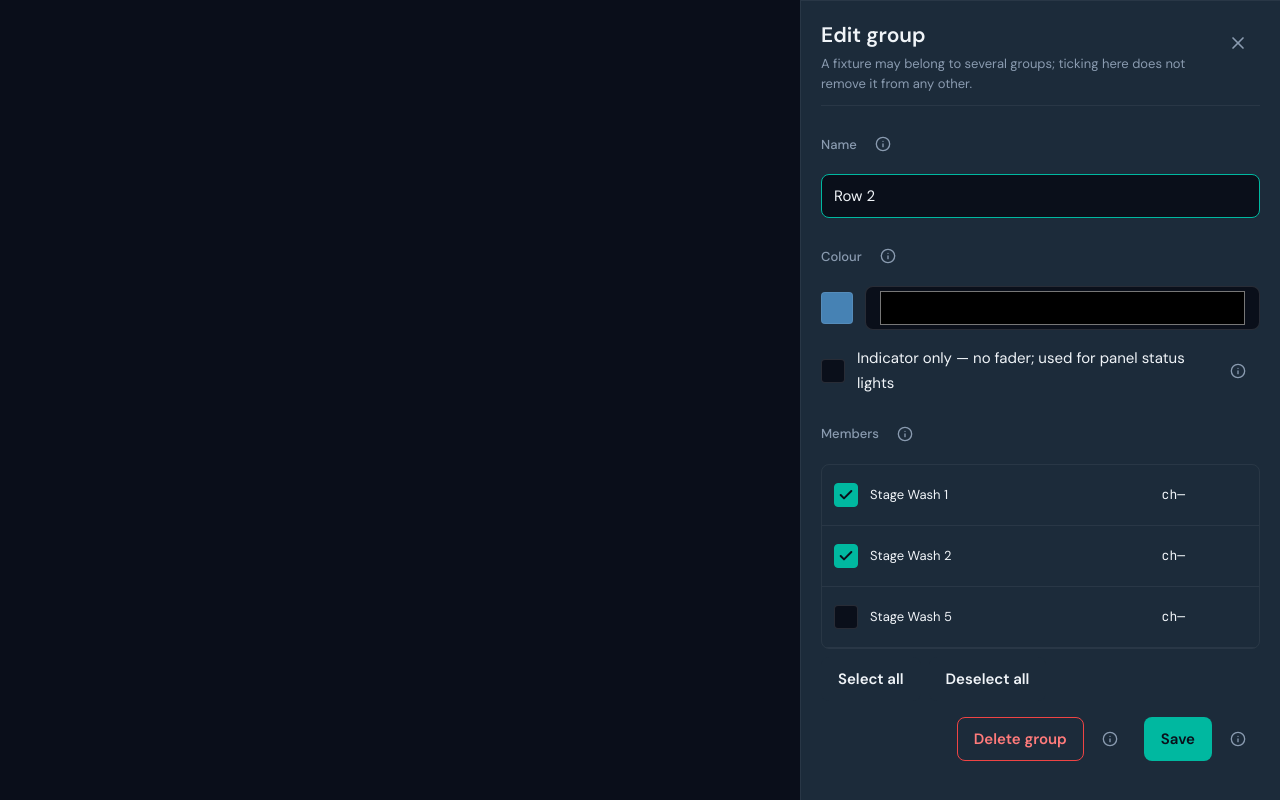
Test: GroupSheet edit mode (§21.18) › Select all and Deselect all set the whole checklist at once
Click the button "Deselect all".
click(988, 679)  # box [929, 657, 1046, 701]
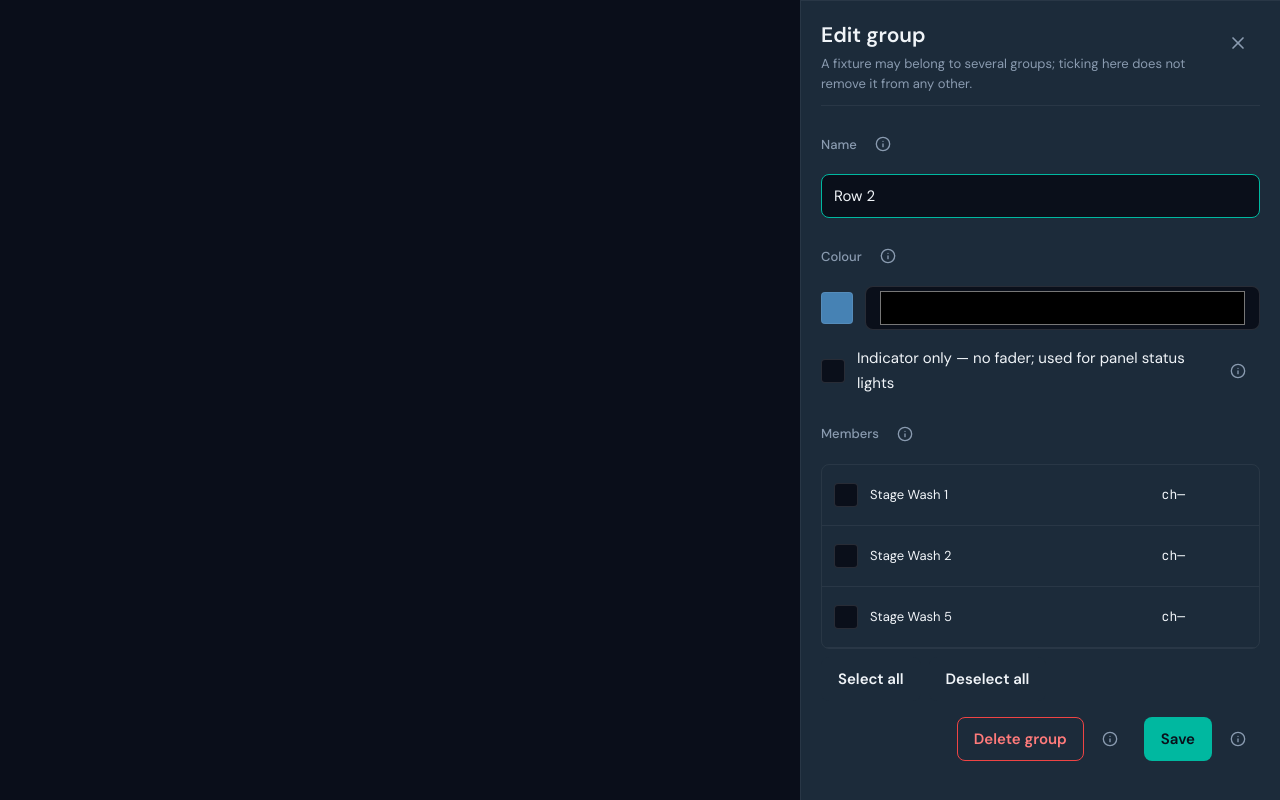
Check: the checkbox labelled "Stage Wash 1" is not checked, box [834, 483, 948, 507]
Click the button "Select all".
click(871, 679)  # box [821, 657, 921, 701]
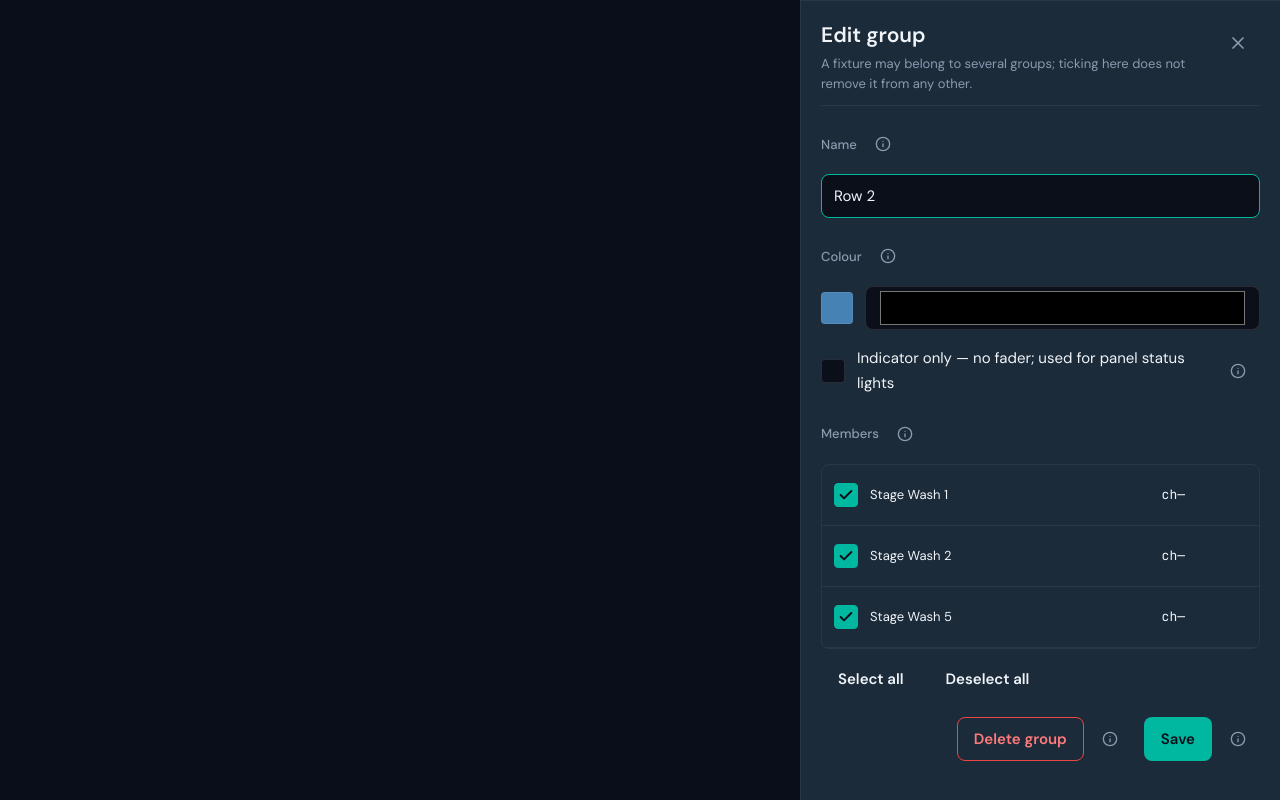
Check: the checkbox labelled "Stage Wash 5" is checked, box [834, 605, 952, 629]
